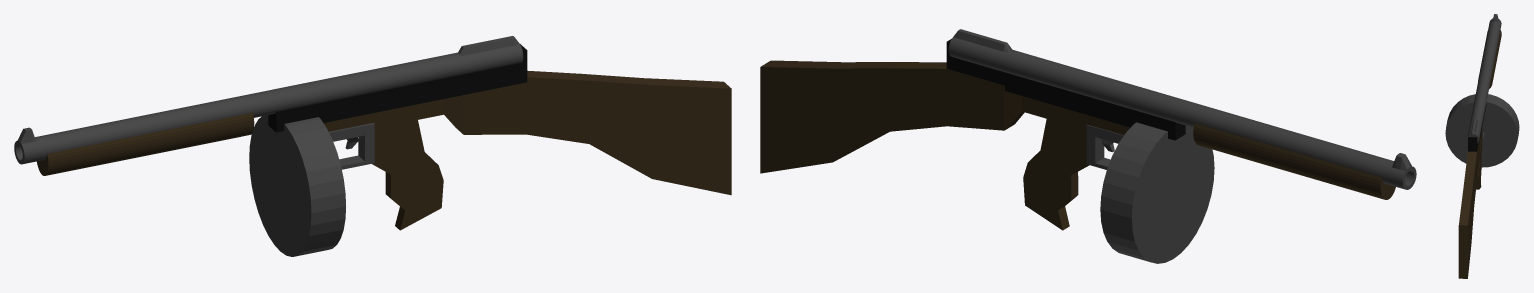
Rendered from TommyGun.fbx.
The picture shows the model from 3 angles, left to right: view 1: azimuth 30°, elevation 25°; view 2: azimuth 150°, elevation 25°; view 3: azimuth 270°, elevation 25°; orthographic projection. The views are drawn at different scales.
Visible parts, largest first — view 1: TommyGun.001; view 2: TommyGun.001; view 3: TommyGun.001.
Boxes of the visible parts, left/top/right/bottom form: TommyGun.001: left=14, top=36, right=731, bottom=256; TommyGun.001: left=760, top=29, right=1416, bottom=263; TommyGun.001: left=1445, top=14, right=1519, bottom=278.
Size of the model in its own units: 66.57 by 19 by 12.6.
